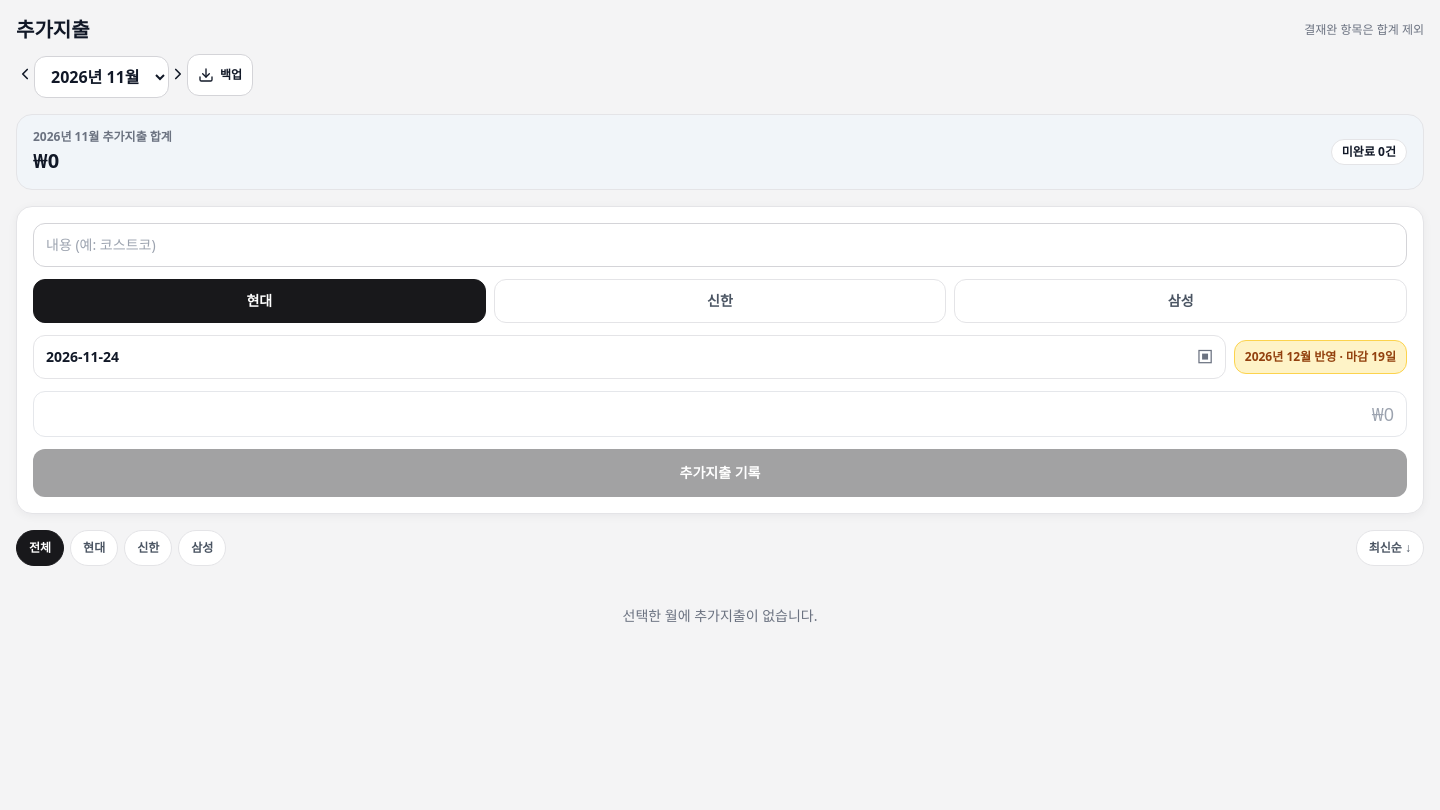
Test: ExtraSpendingPage › displays the budget month for post-cutoff spending while preserving the internal billing month in storage
The width and height of the screenshot is (1440, 810).
Step 1. Select "2026년 12월" in the dropdown named "목록 월" → (102, 77), box [34,56,169,98]
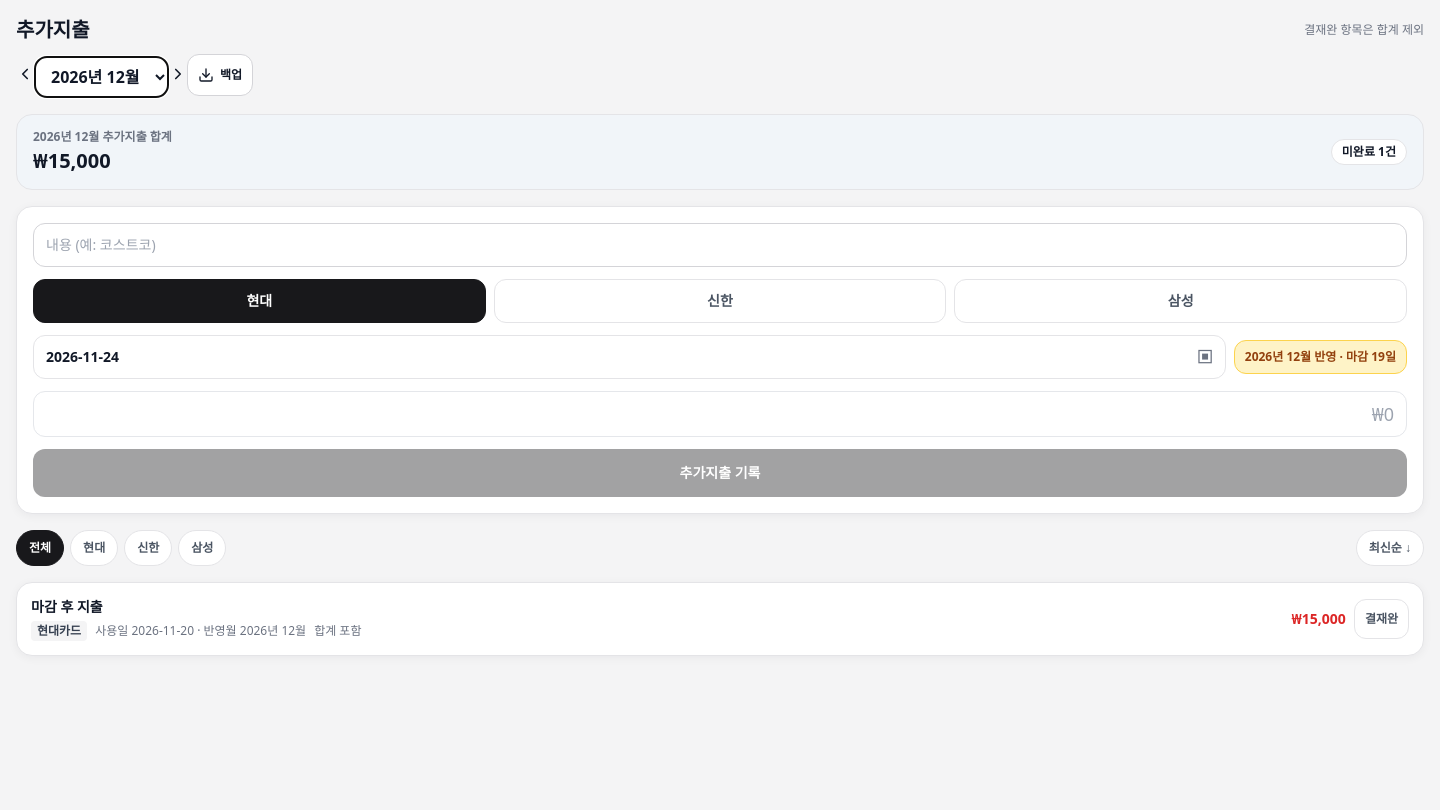
Check: the element "마감 후 지출" shows "사용일 2026-11-20 · 반영월 2026년 12월", box [16,582,1424,656]
